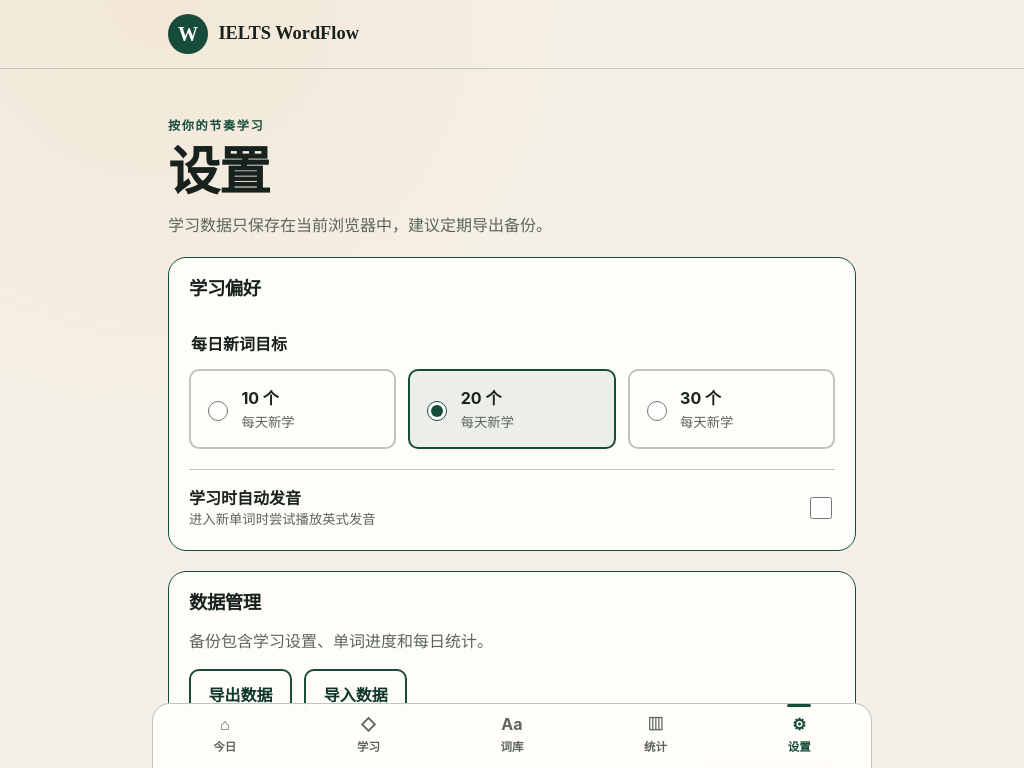
it: SettingsPage › persists goal and auto-speak changes and refreshes Today immediately
Click the radio button named "每天 30 个" at {"x": 657, "y": 411}, box [647,401,667,421]
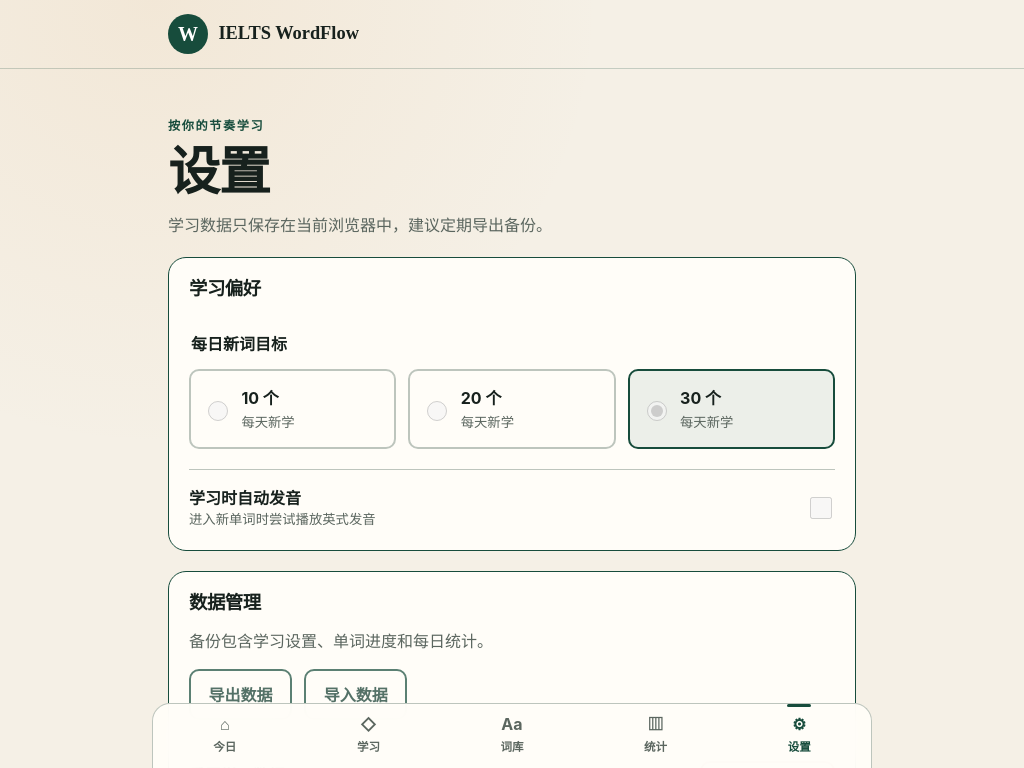
Click the checkbox labelled "学习时自动发音" at {"x": 821, "y": 508}, box [810,497,832,519]
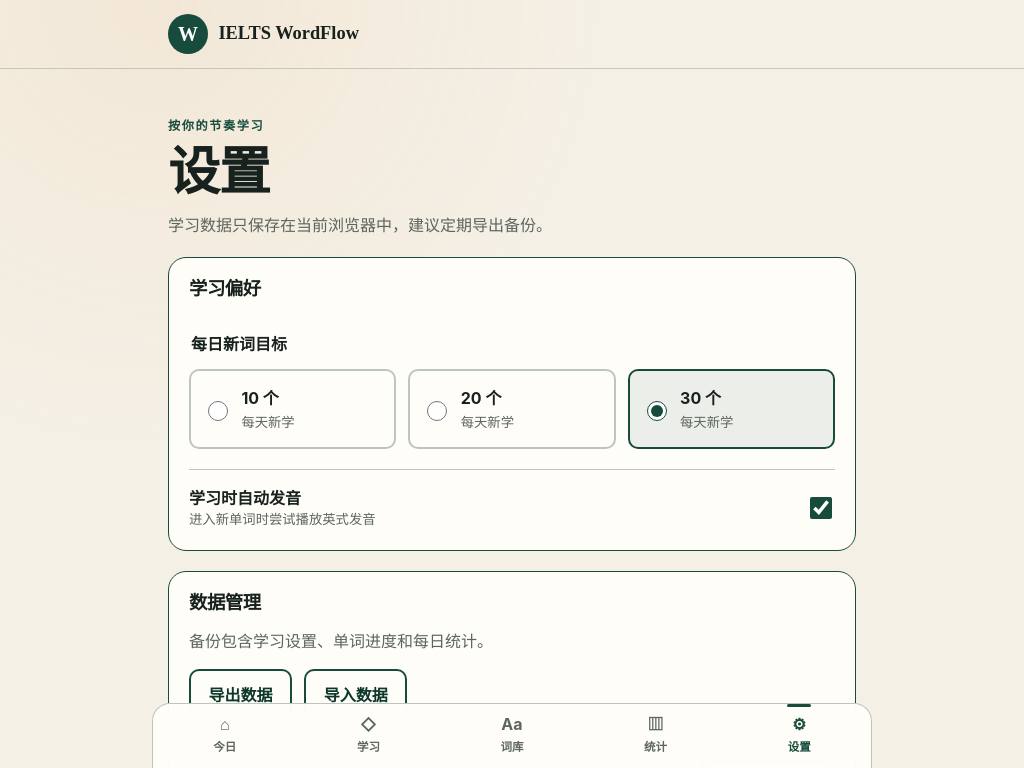
Click the link "⌂ 今日" at {"x": 225, "y": 734}, box [213,714,236,754]
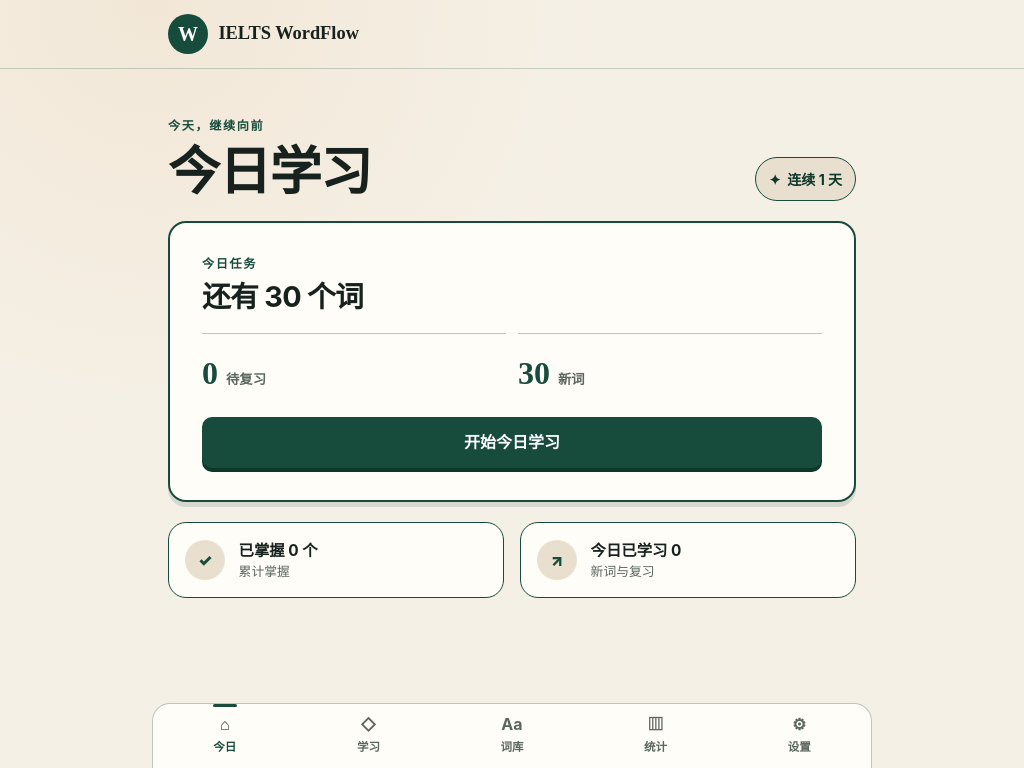
expect the text "30" is shown: met, box [518,348,550,396]
